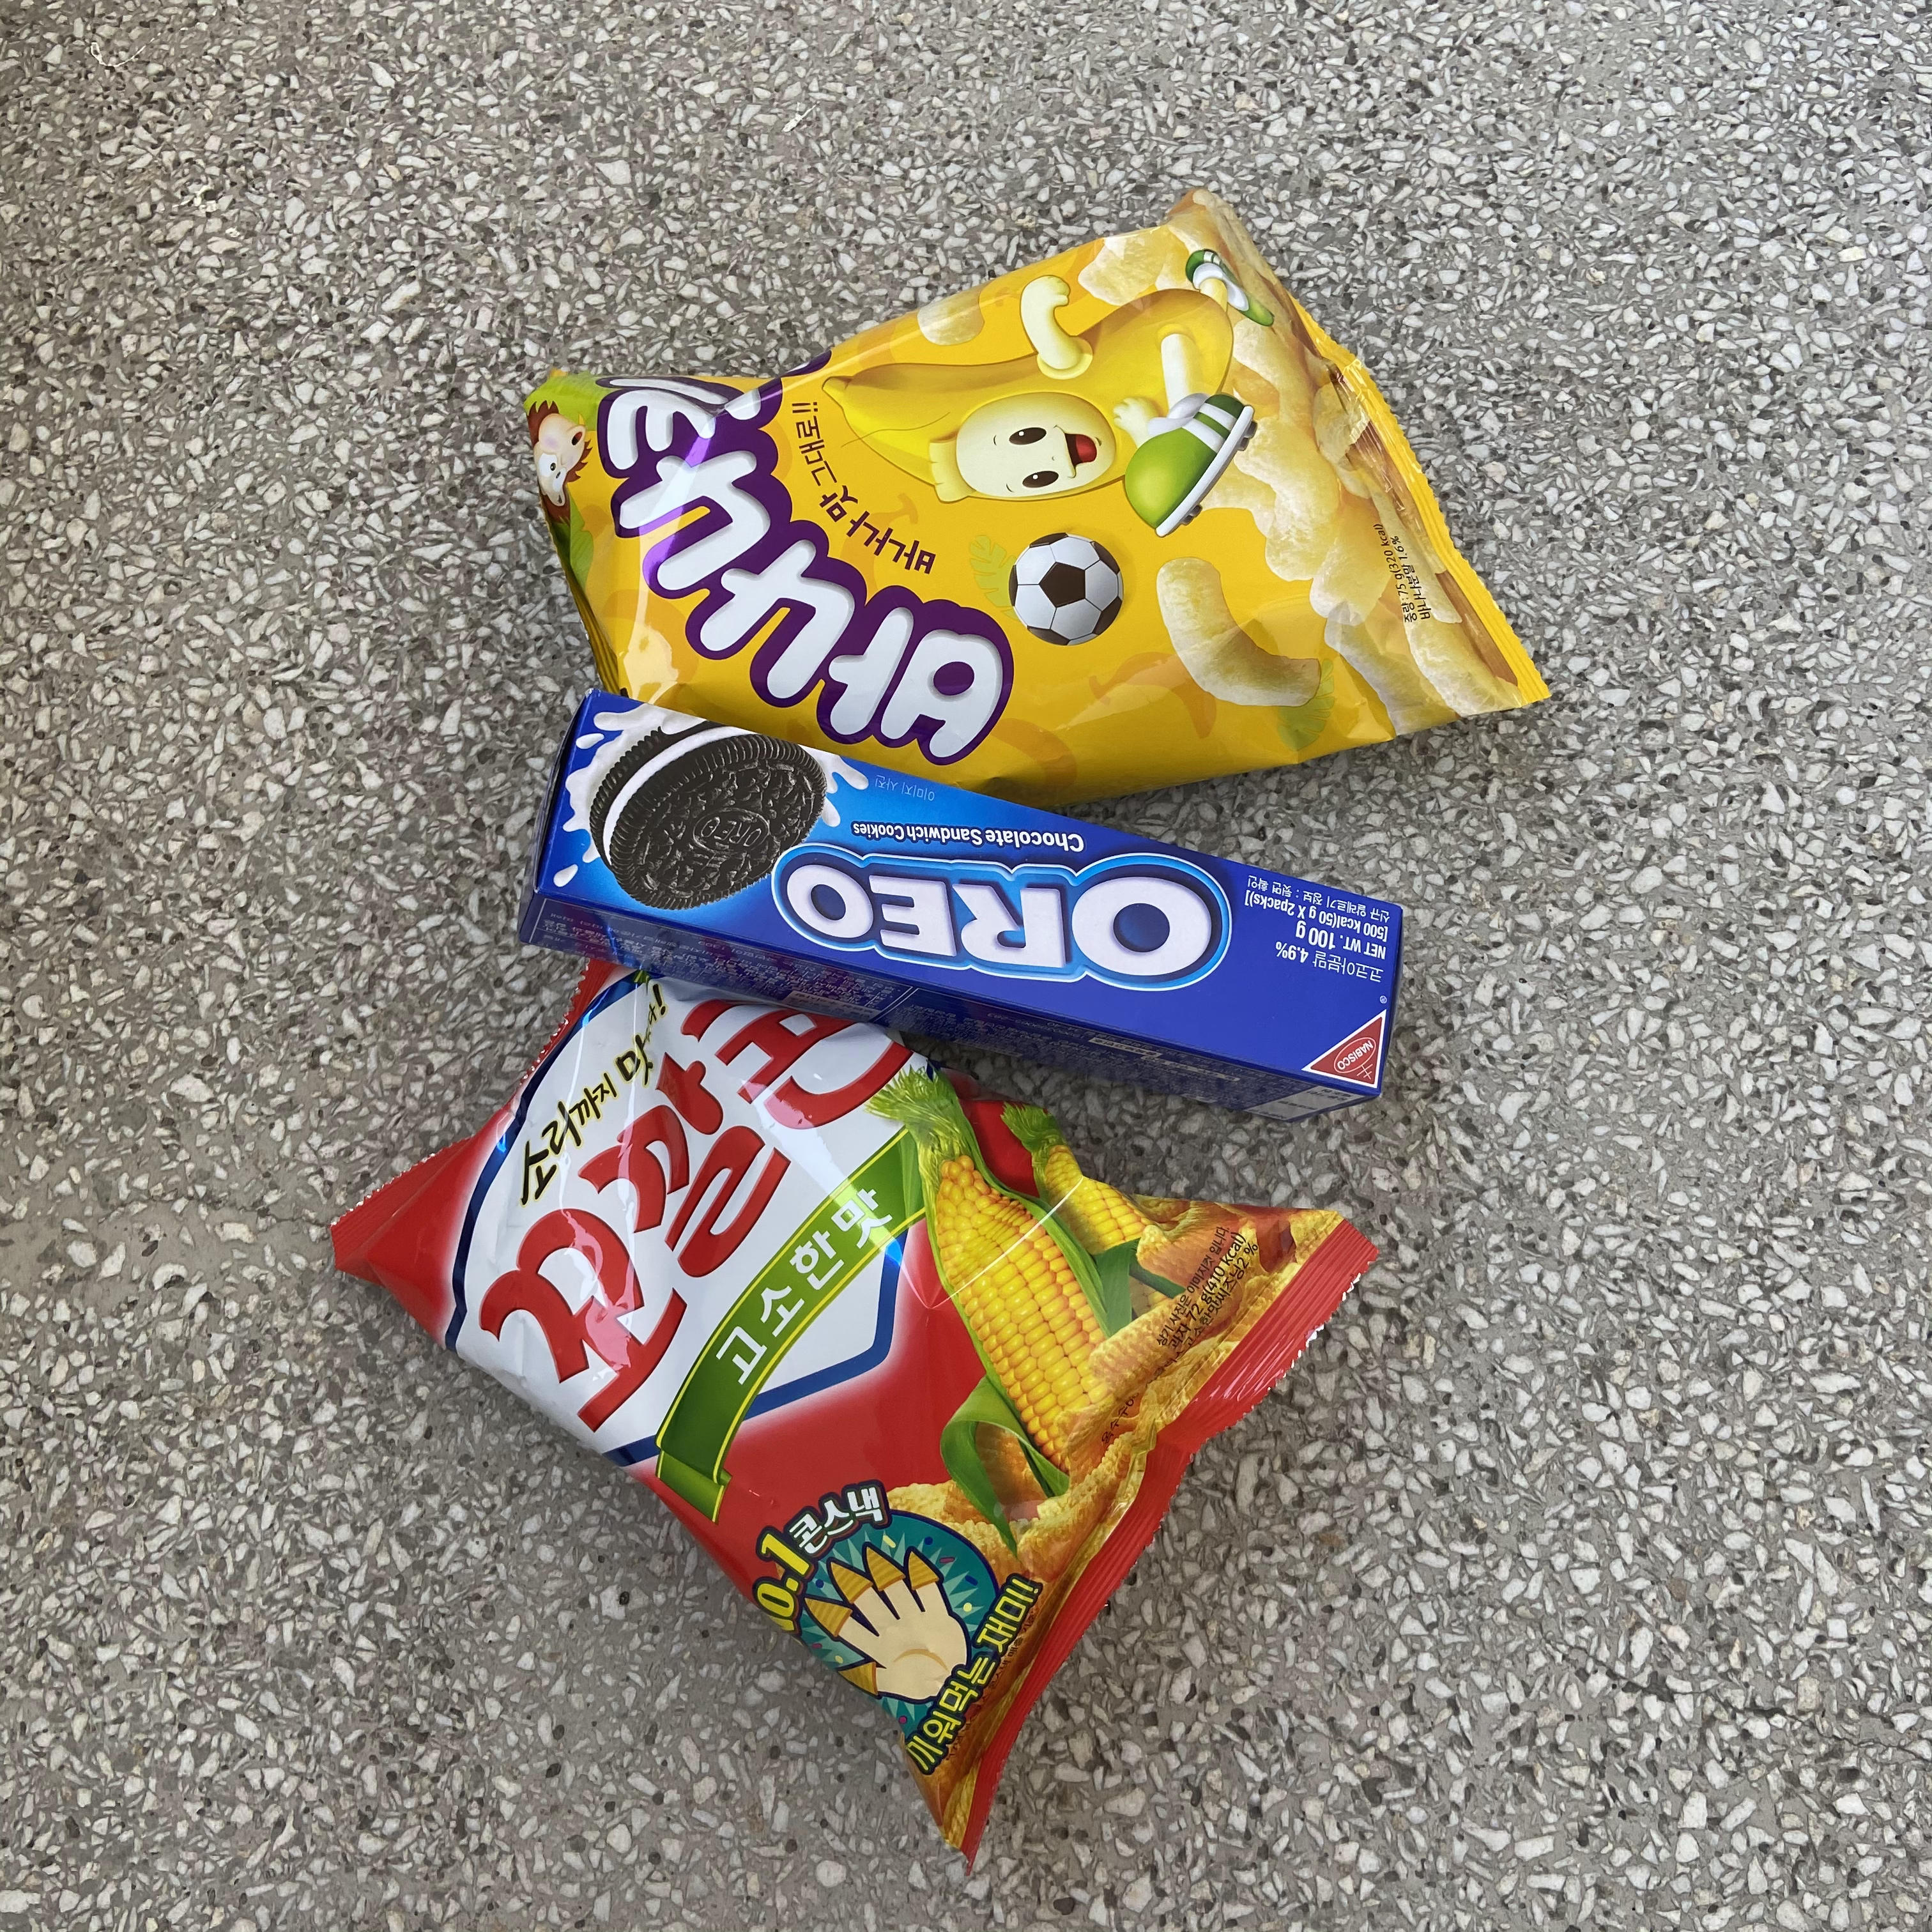banana: (513, 189, 1557, 816)
ggoggalcon: (311, 913, 1385, 1884)
oreo: (520, 685, 1412, 1127)
